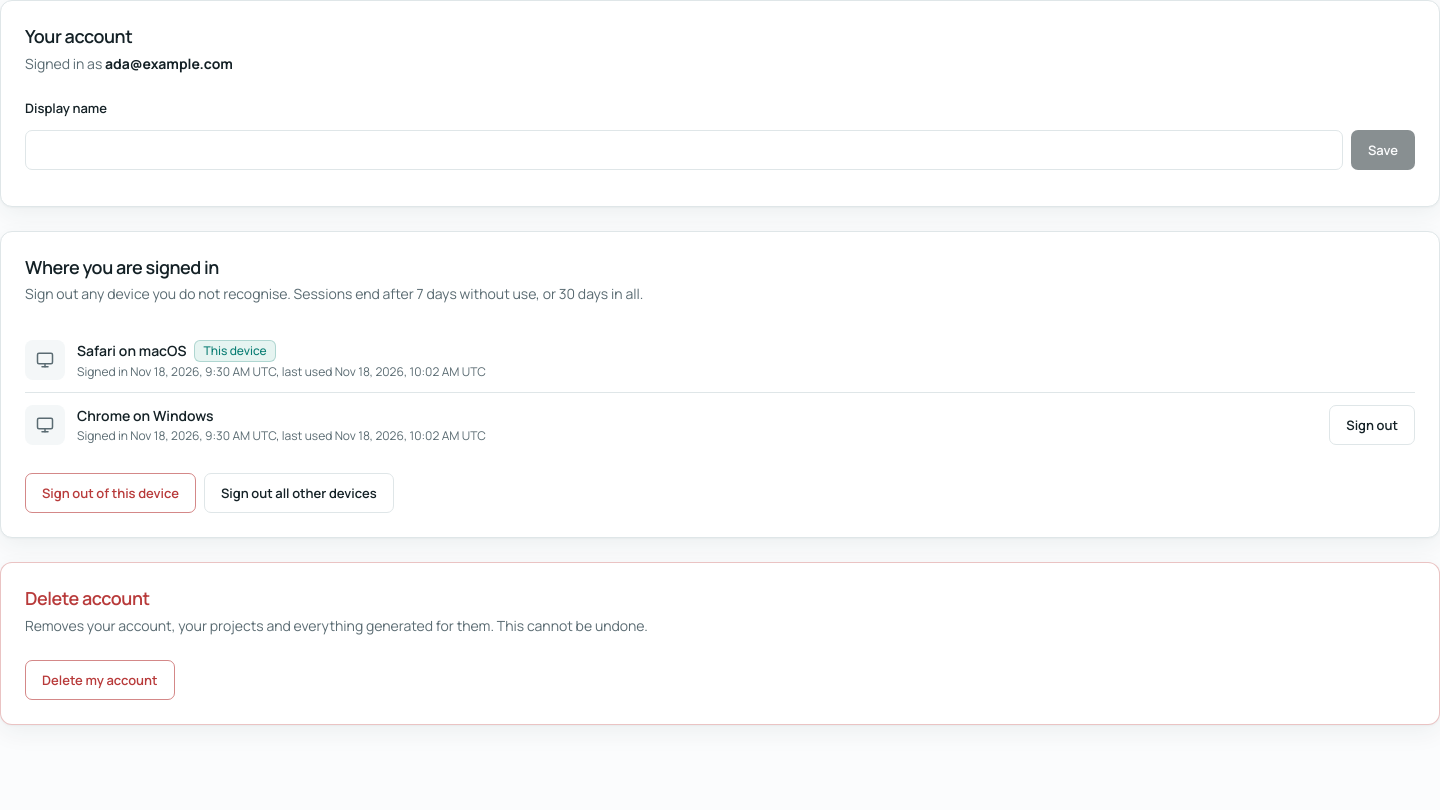
AccountView › shows an error and keeps the list when revoking fails
Click the button with aria-label "sign out chrome on windows". click: point(1372, 425)
box: [1329,405,1415,445]
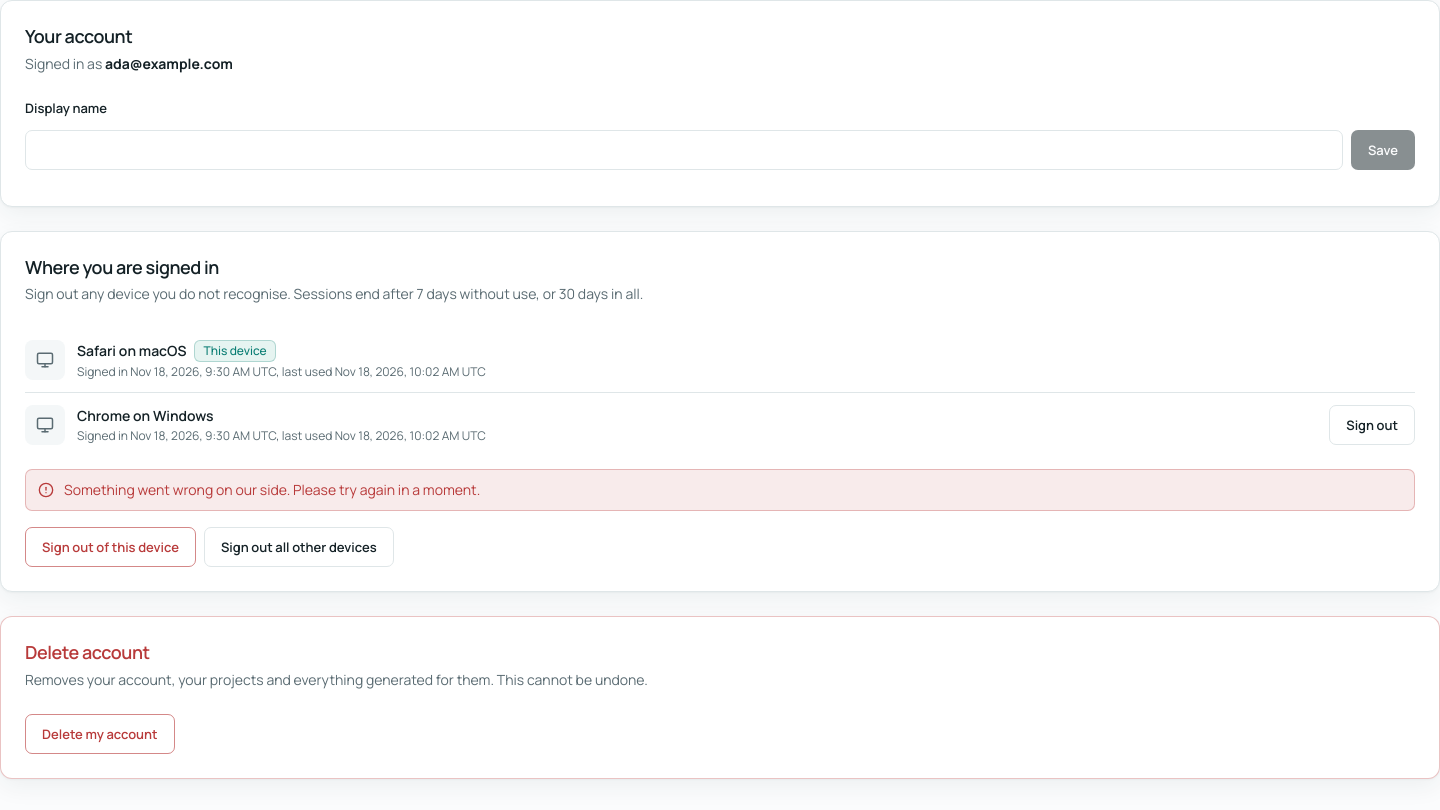
Expected: the text "Chrome on Windows" is shown, [77,406,214,425]
Expected: the message shows "Something went wrong", [64,480,480,499]
